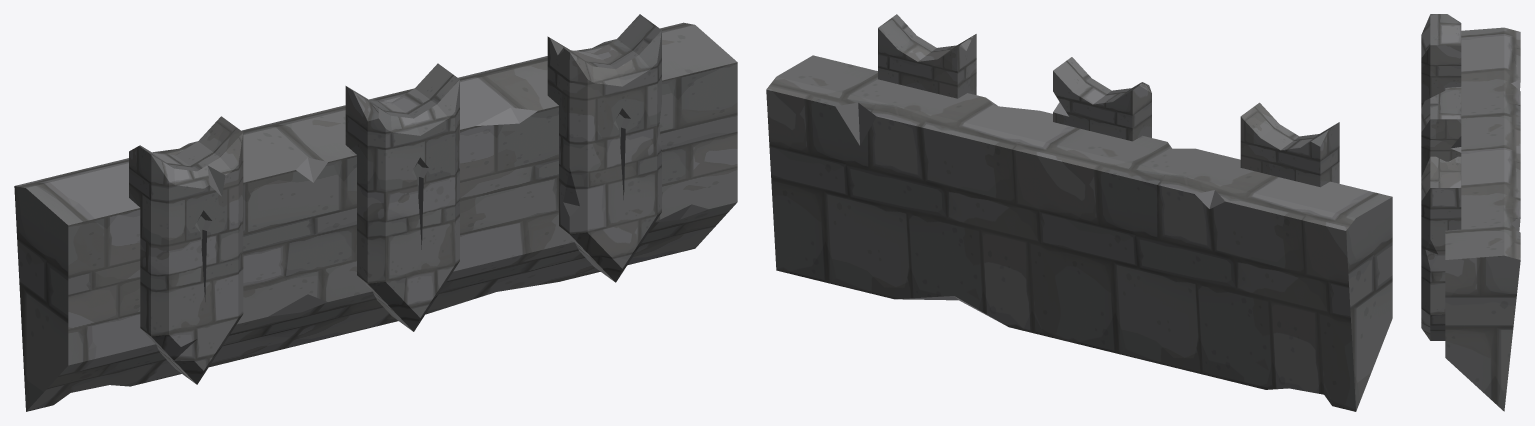
File: parapet.gltf
The picture shows the model from 3 angles, left to right: view 1: azimuth 30°, elevation 25°; view 2: azimuth 150°, elevation 25°; view 3: azimuth 270°, elevation 25°; orthographic projection. The views are drawn at different scales.
Visible parts, largest first — view 1: parapet; view 2: parapet; view 3: parapet.
Part boxes in pixels (box(x1,y1,x2,y2)): parapet: box(14, 14, 737, 411); parapet: box(766, 14, 1392, 411); parapet: box(1421, 14, 1520, 411).
Bounding box in the file's own units: 5 × 1.99 × 0.921.
1 material, 1 textured.
